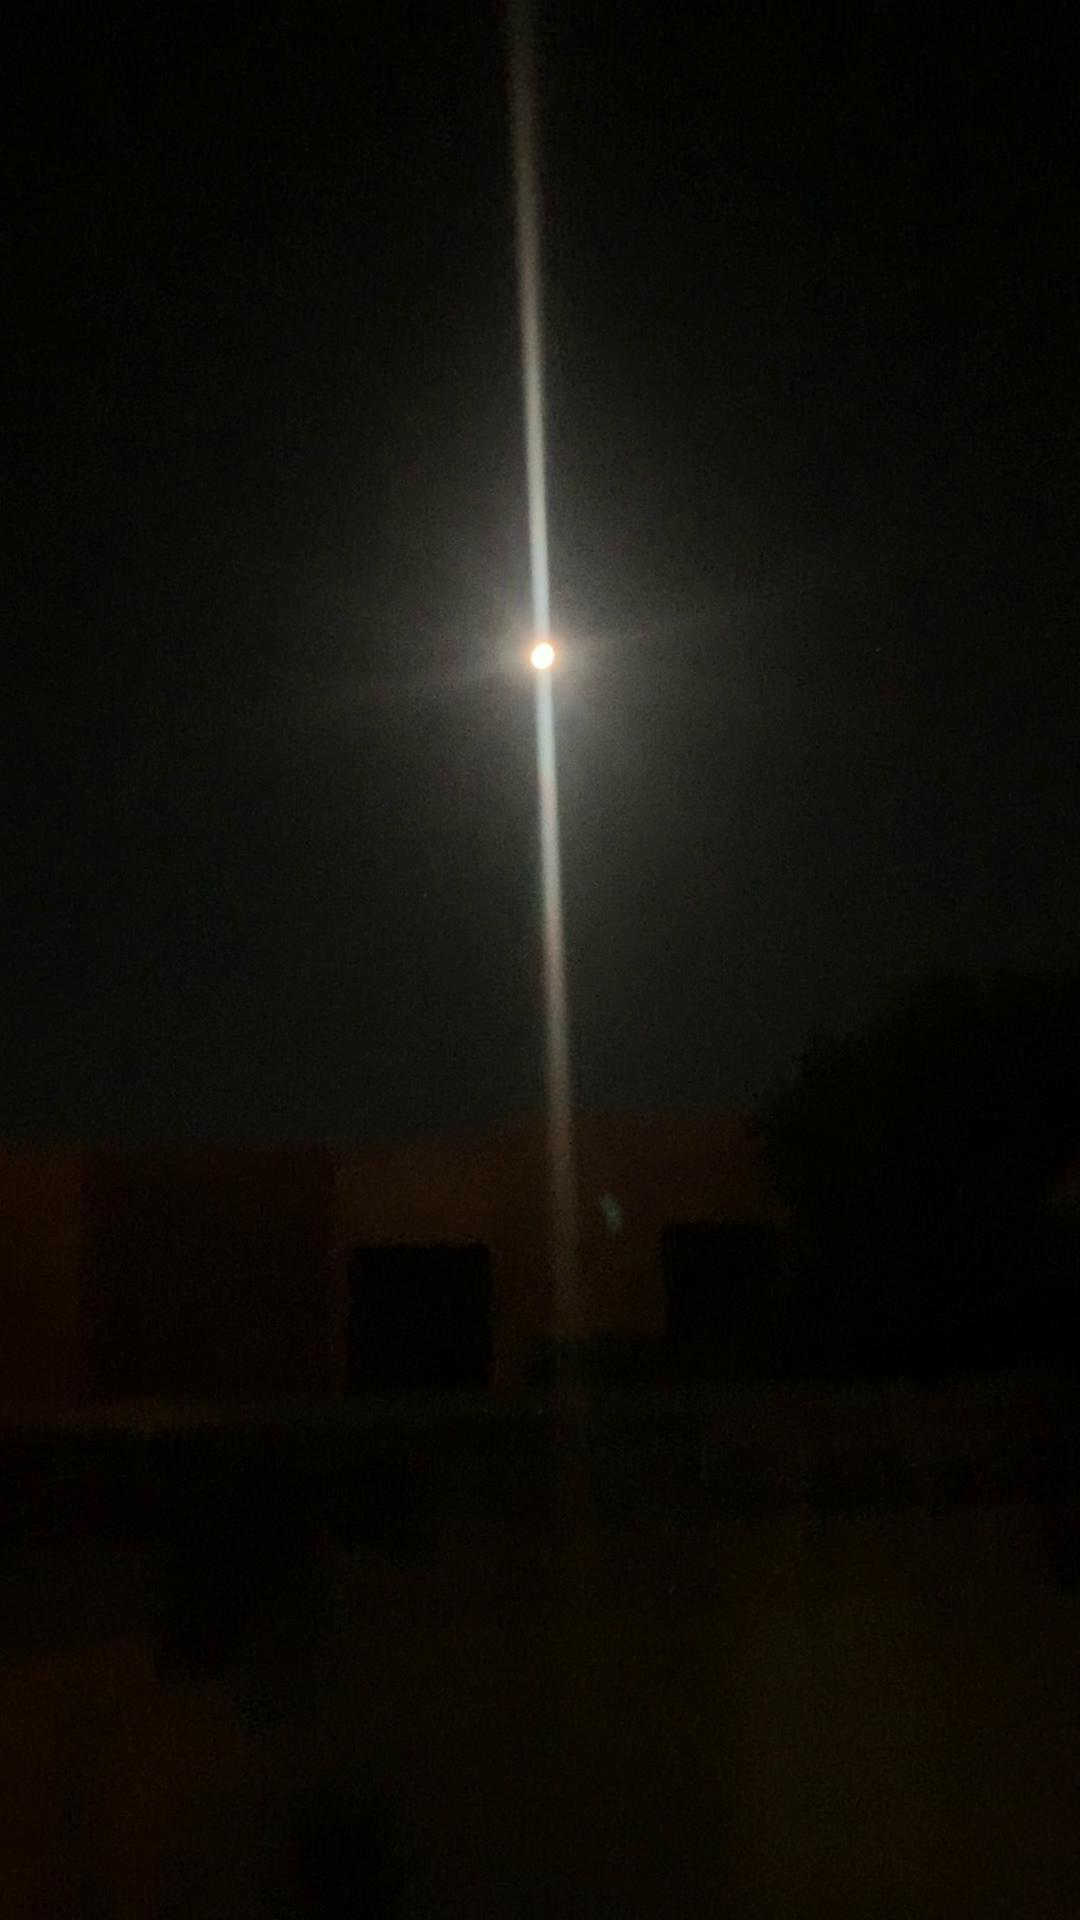moon: (508, 630, 583, 709)
